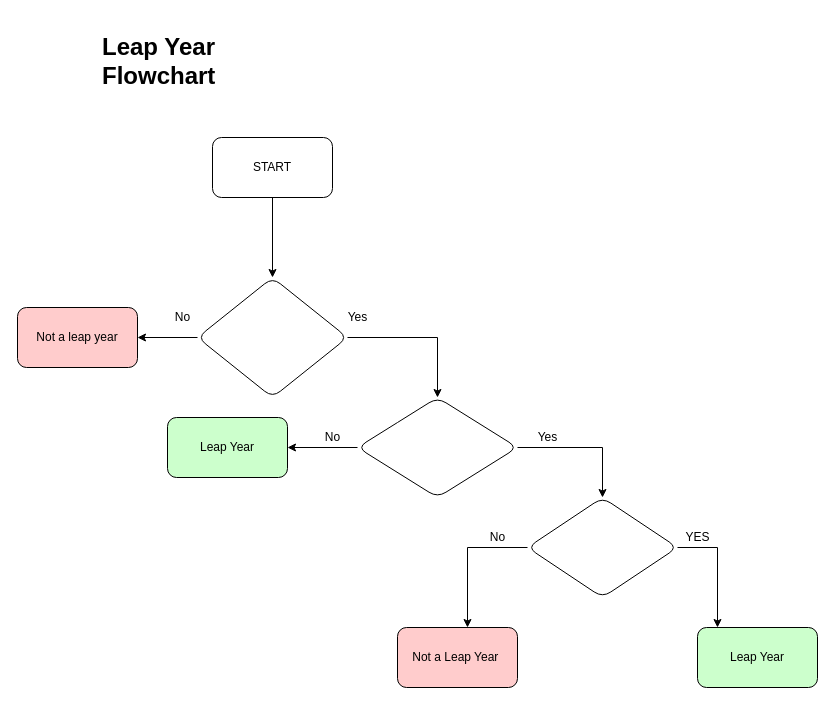
Image size: 835x705. Some labels were removed from this diagram. The shapes that lost their labels are listed below. From the top down, each one's centre as x and y in pixels, then its label:
[272,337]: is divisible by 4?
[437,447]: is it divisible by 100?
[602,547]: is it divisible by 400?
